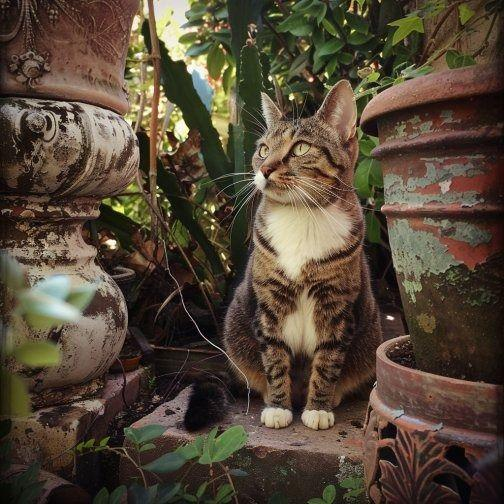kedo: (259, 85, 371, 429)
